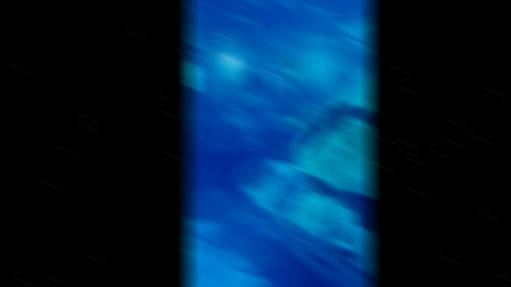Fish: (295, 103, 358, 156), (290, 104, 323, 131), (299, 103, 322, 125), (310, 177, 333, 197), (337, 250, 360, 261), (358, 108, 371, 125), (286, 68, 301, 81), (335, 228, 346, 241), (279, 58, 296, 66), (280, 0, 291, 8), (217, 33, 230, 39), (245, 21, 260, 26), (338, 19, 353, 24), (229, 15, 240, 20), (317, 211, 321, 224), (239, 0, 254, 3), (205, 4, 214, 9)
